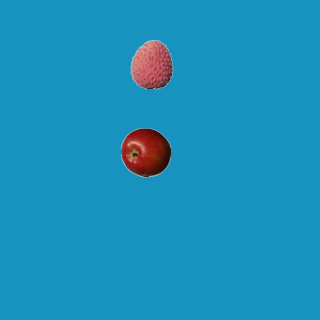Apple Braeburn: (120, 127, 170, 177)
Lychee: (126, 39, 176, 89)
